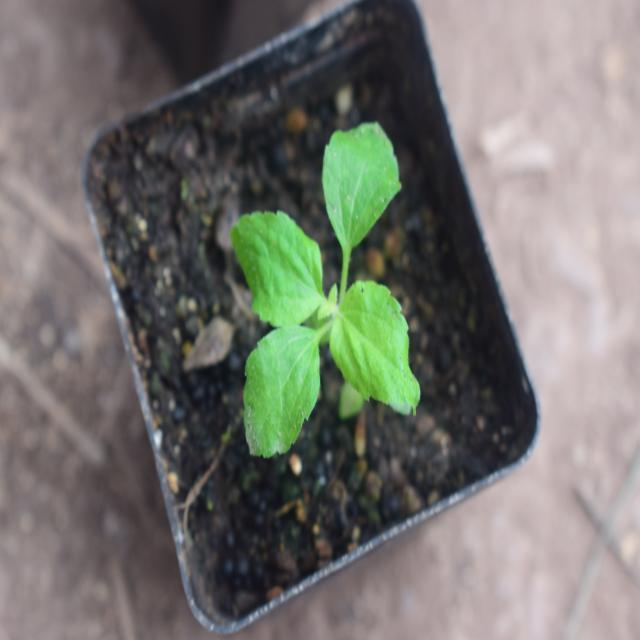billygoat_weed: (217, 115, 428, 459)
